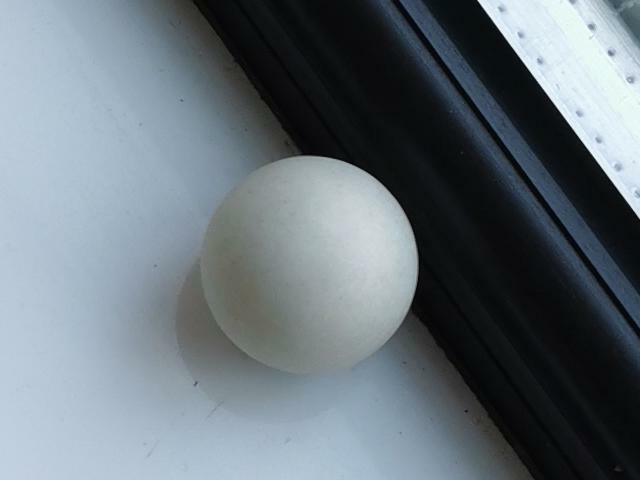ball: (201, 154, 420, 369)
